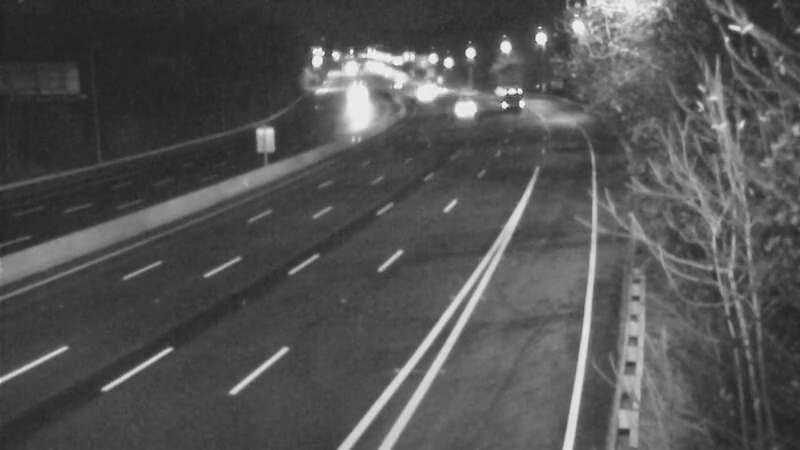vehicle: (418, 64, 468, 114), (398, 74, 448, 124), (483, 69, 533, 119), (438, 88, 488, 138), (331, 77, 381, 127)
